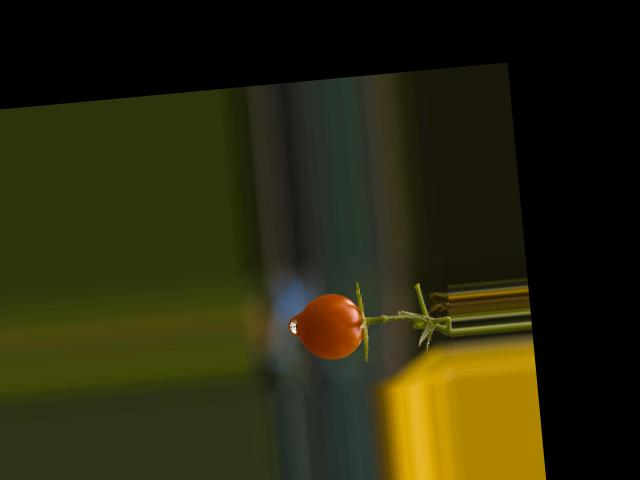tomato: (295, 290, 366, 361)
